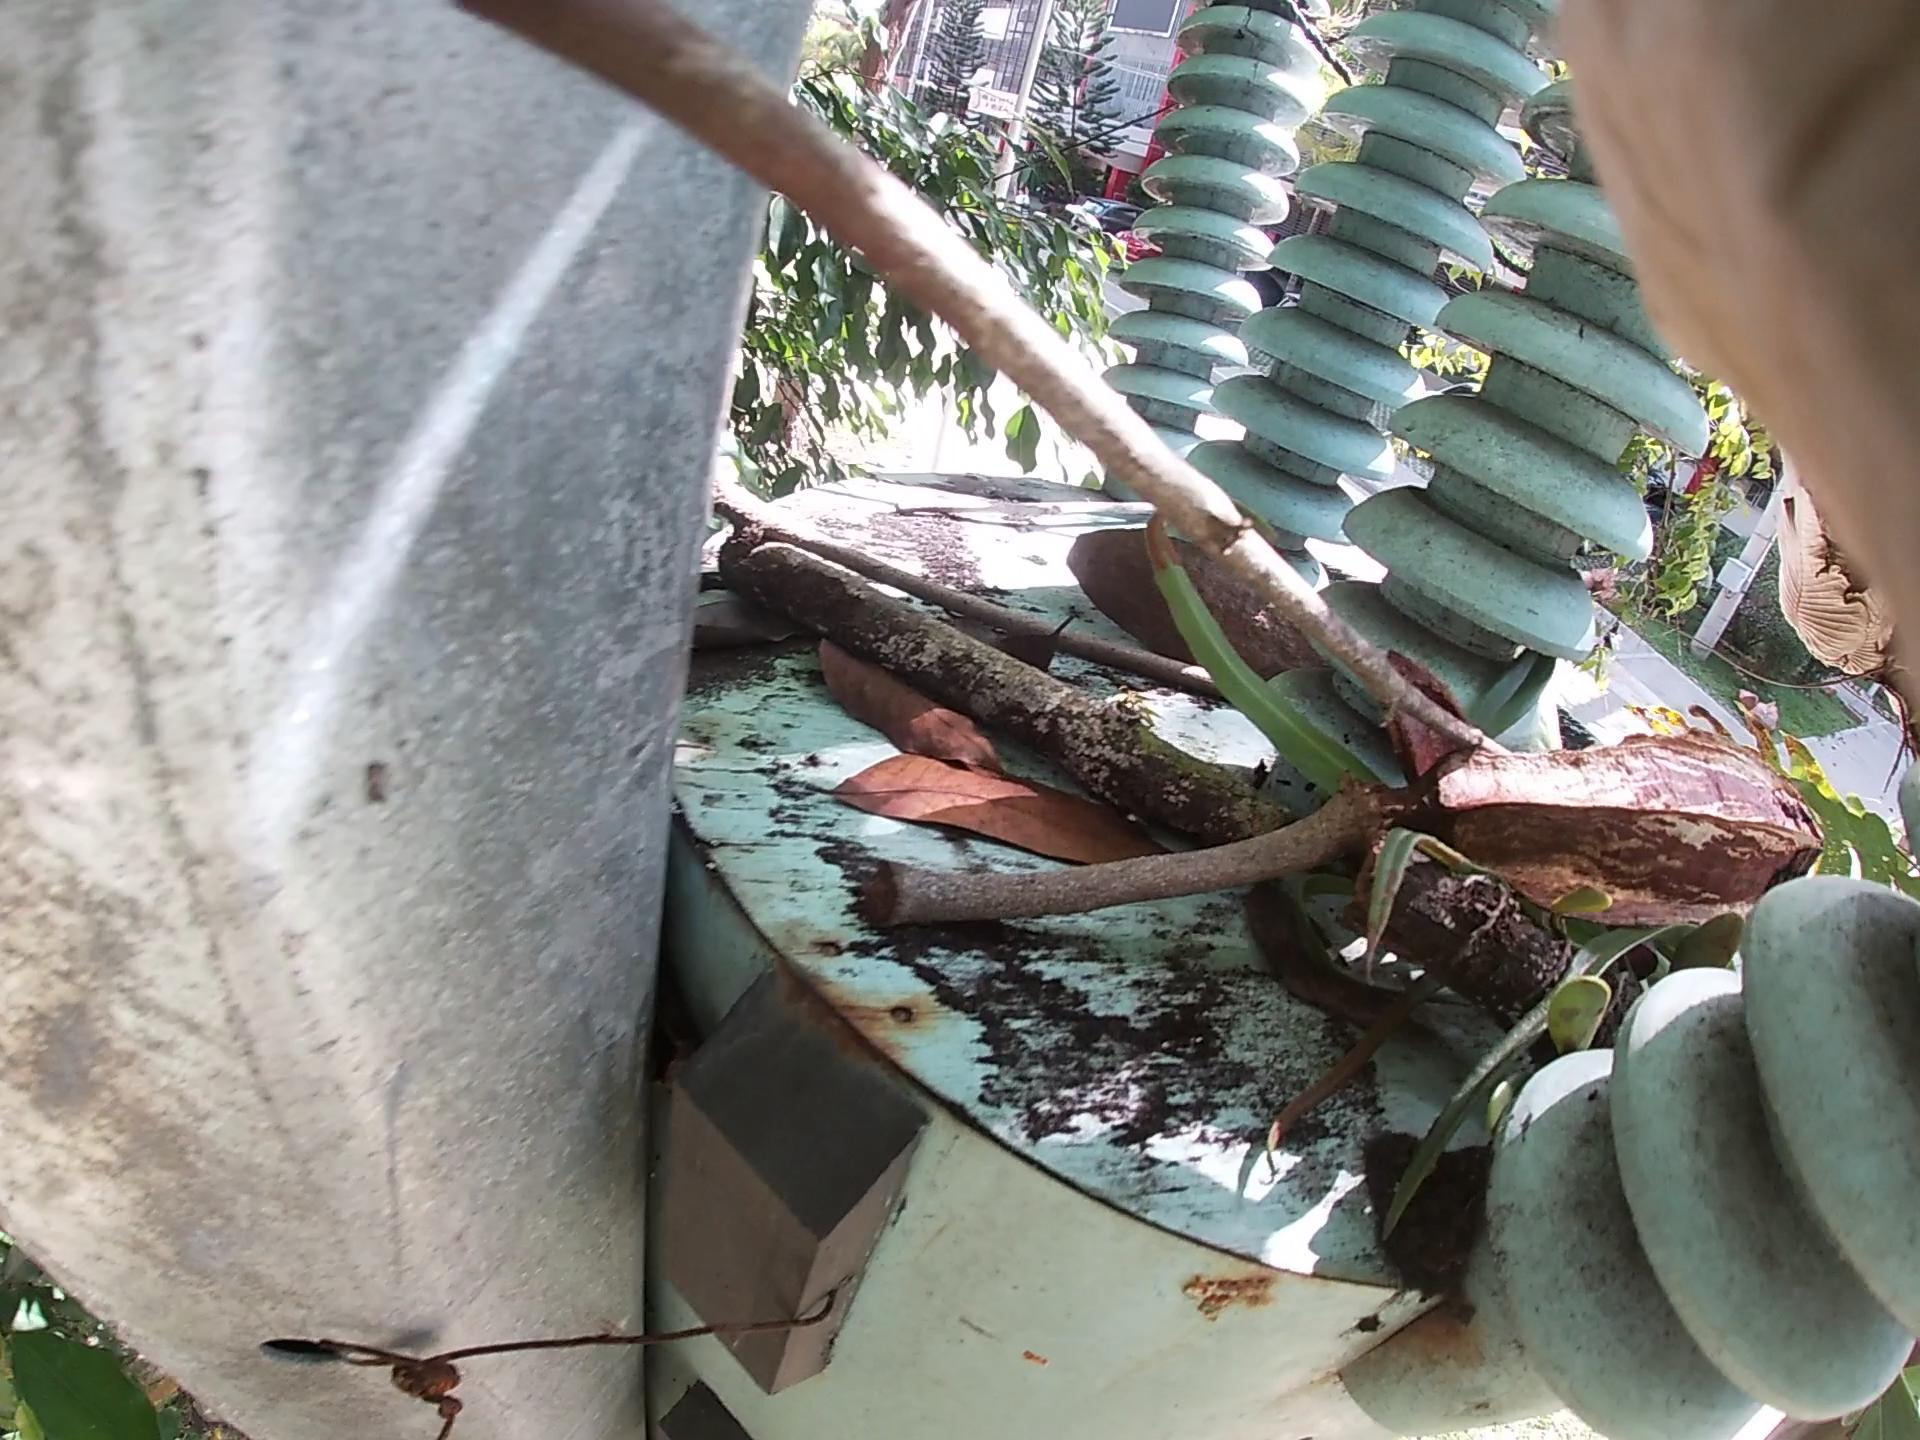branch with leaves: (717, 437, 1668, 1091)
leaf: (721, 601, 1099, 935)
mahogany fruit: (1380, 700, 1878, 1010), (1129, 442, 1383, 753)
tree branch: (614, 61, 1477, 811), (679, 479, 1203, 687), (810, 797, 1324, 962)
